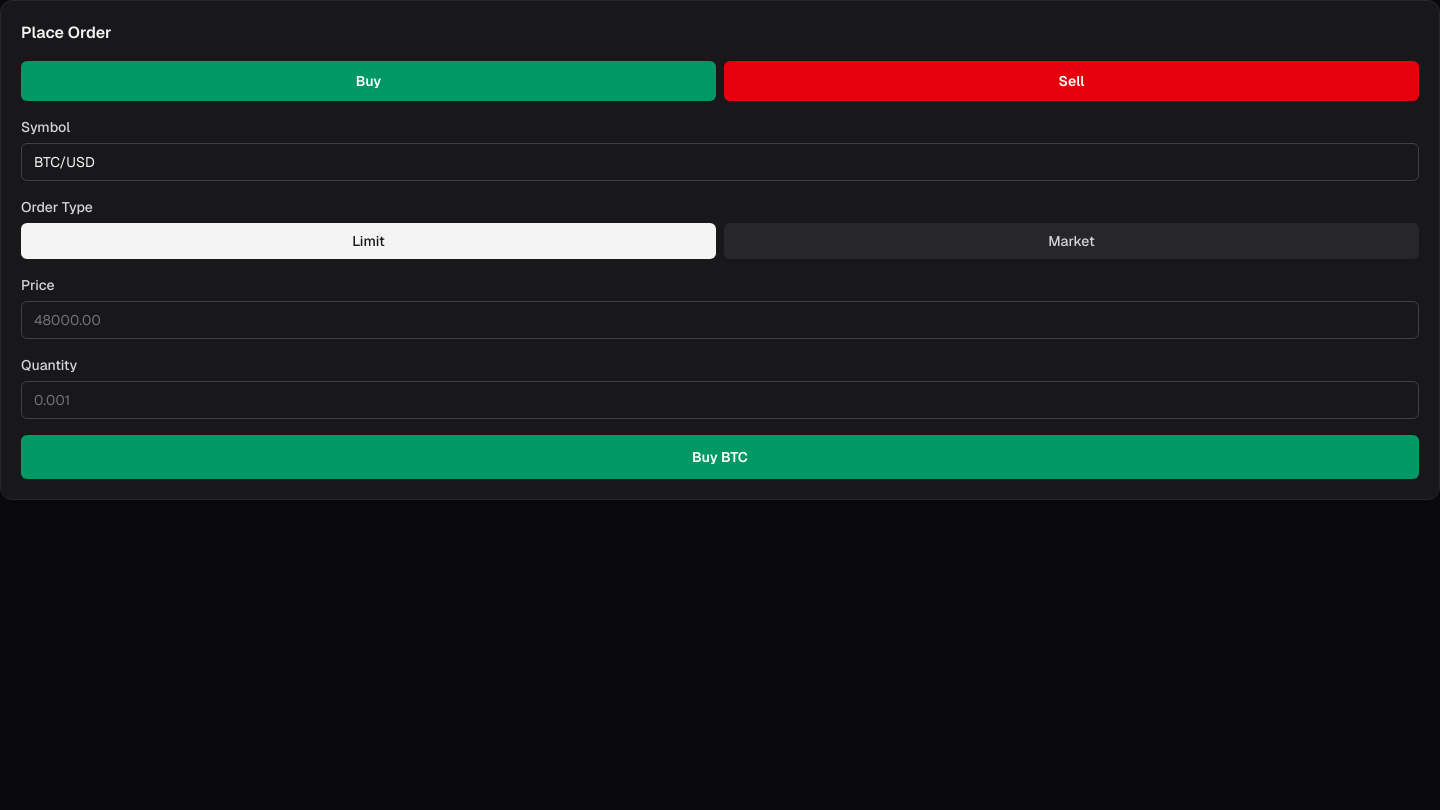
Scenario: OrderForm › displays an error returned by the API
Type "48000" into the number field labelled "Price".
click(720, 320); type("48000")  # box x1=21 y1=301 x2=1419 y2=339
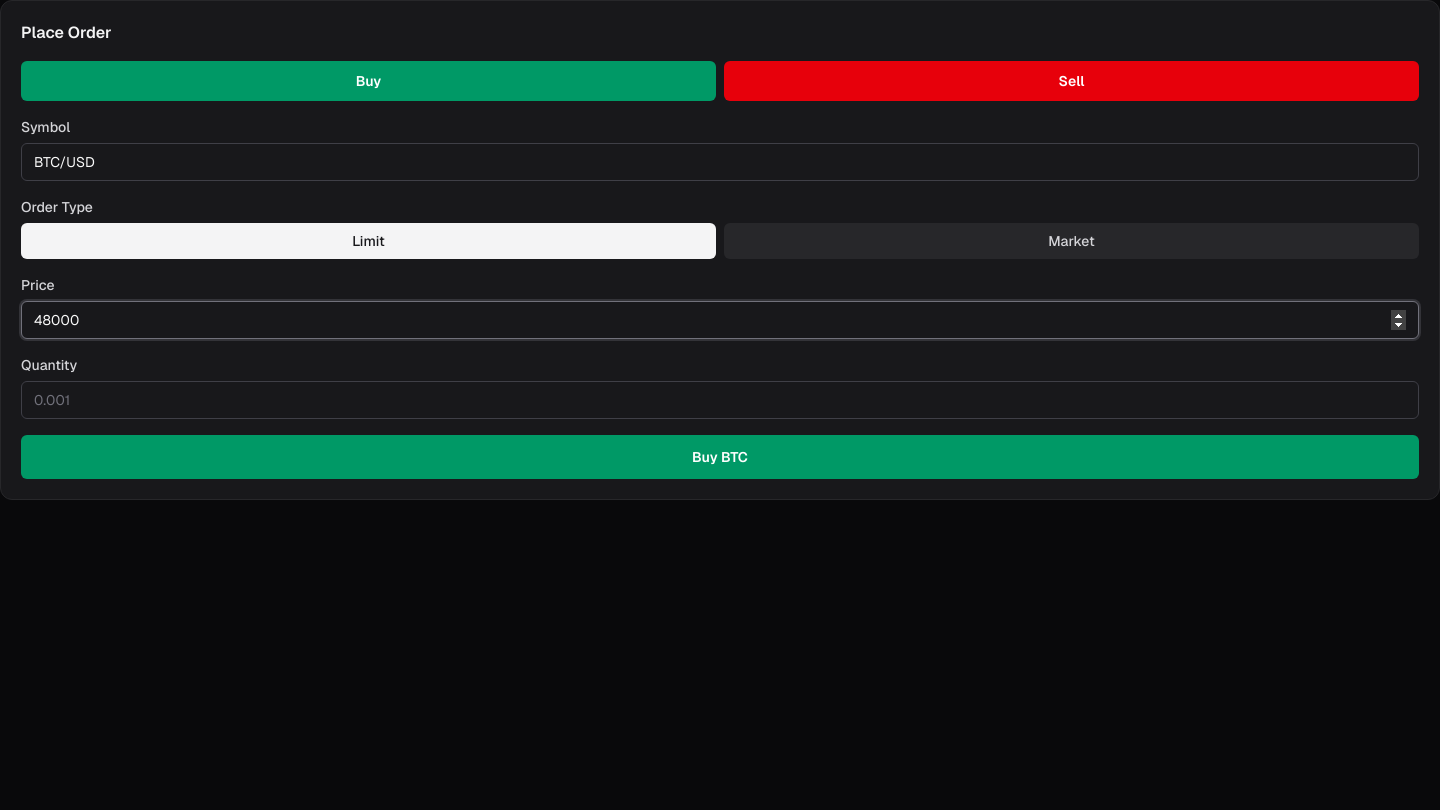
Type "0.5" into the number field labelled "Quantity".
click(720, 400); type("0.5")  # box x1=21 y1=381 x2=1419 y2=419
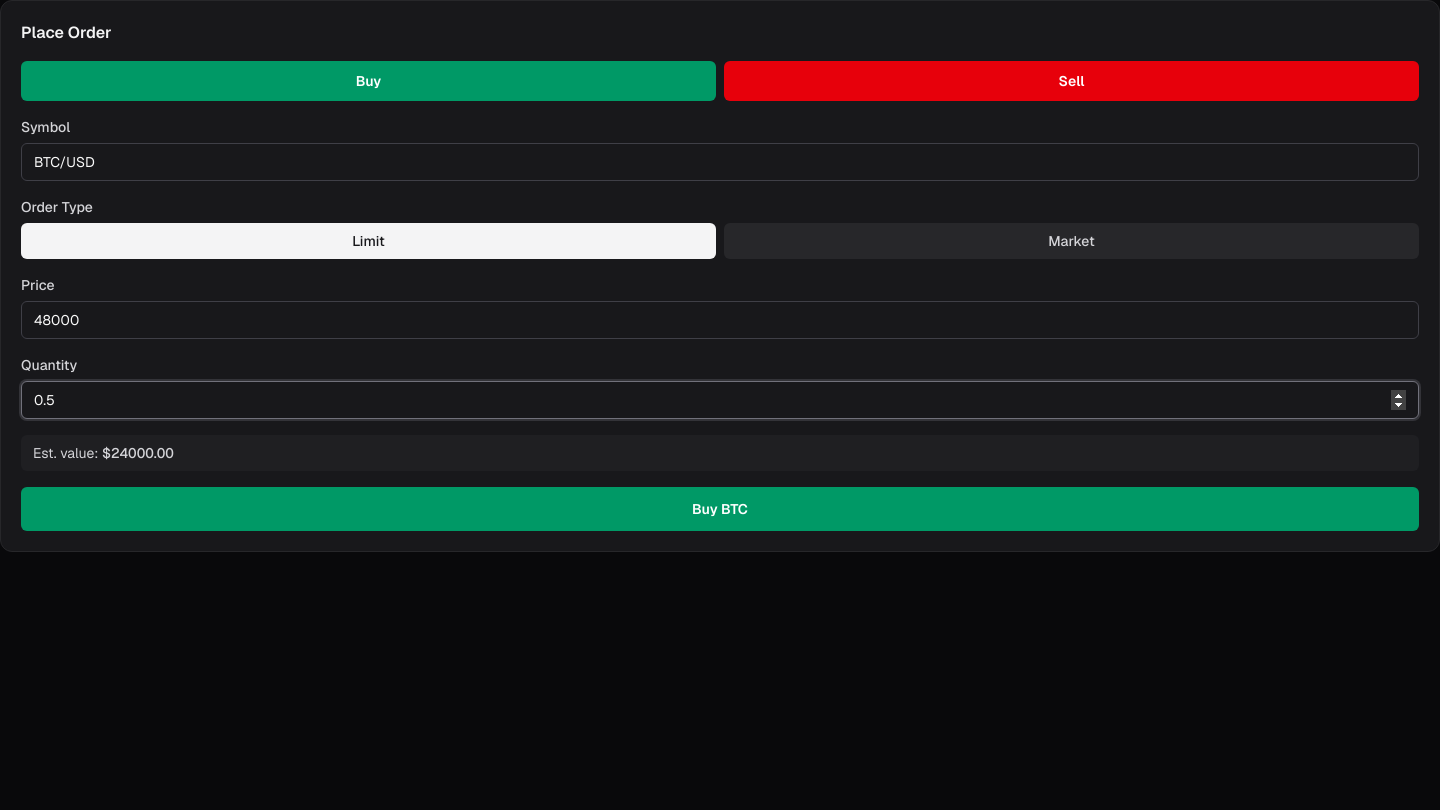
Click the button "Buy BTC".
click(720, 509)  # box x1=21 y1=487 x2=1419 y2=531
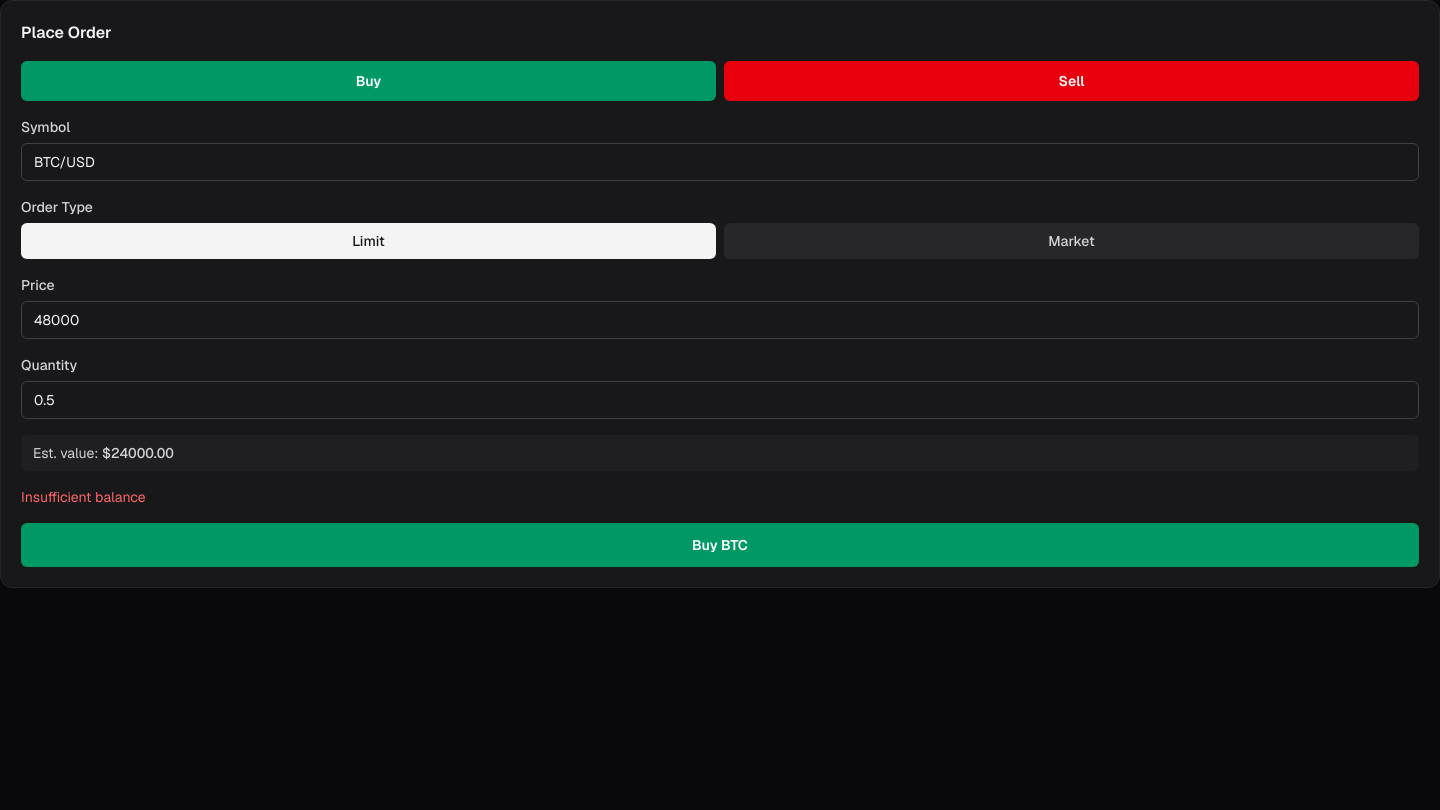
Now the text "Insufficient balance" is shown, box x1=21 y1=488 x2=146 y2=506
